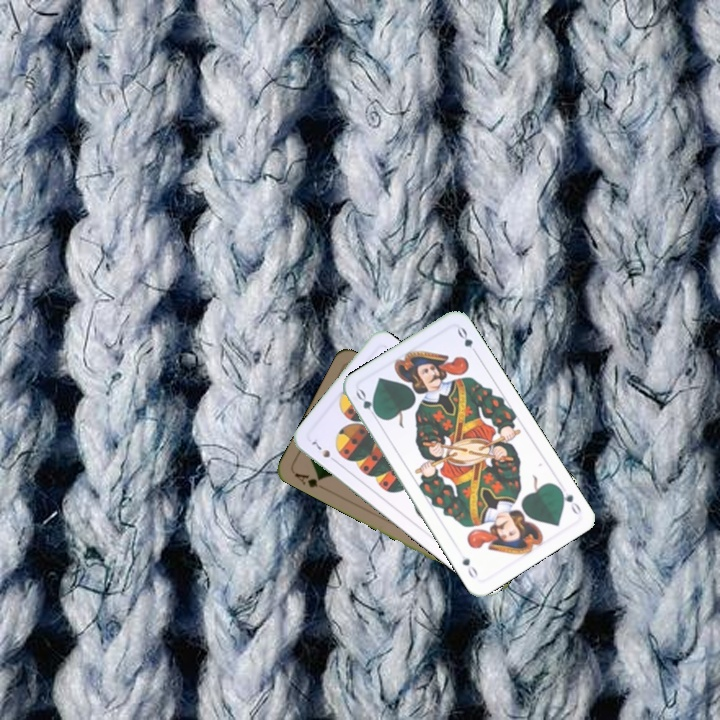GA: (290, 468, 325, 490)
GO: (352, 385, 383, 423), (554, 482, 584, 517)
S7: (308, 437, 340, 466)
